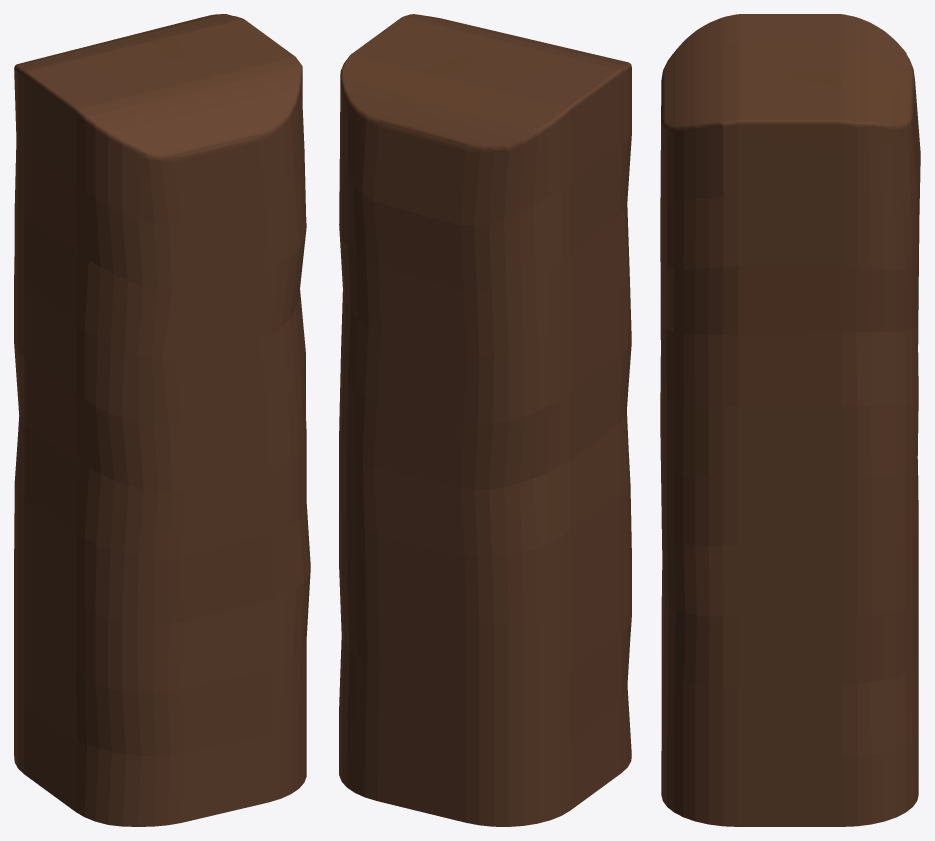
File: Wall Mud-Post.fbx
3 views of the same model, side by side, from view 1: azimuth 30°, elevation 25°; view 2: azimuth 150°, elevation 25°; view 3: azimuth 270°, elevation 25° (orthographic).
Visible parts, largest first — view 1: Wall Mud-Post; view 2: Wall Mud-Post; view 3: Wall Mud-Post.
Boxes of the visible parts, left/top/right/bottom form: Wall Mud-Post: left=14, top=14, right=310, bottom=826; Wall Mud-Post: left=339, top=14, right=631, bottom=826; Wall Mud-Post: left=660, top=14, right=920, bottom=826.
Size of the model in its own units: 121 by 366 by 122.
